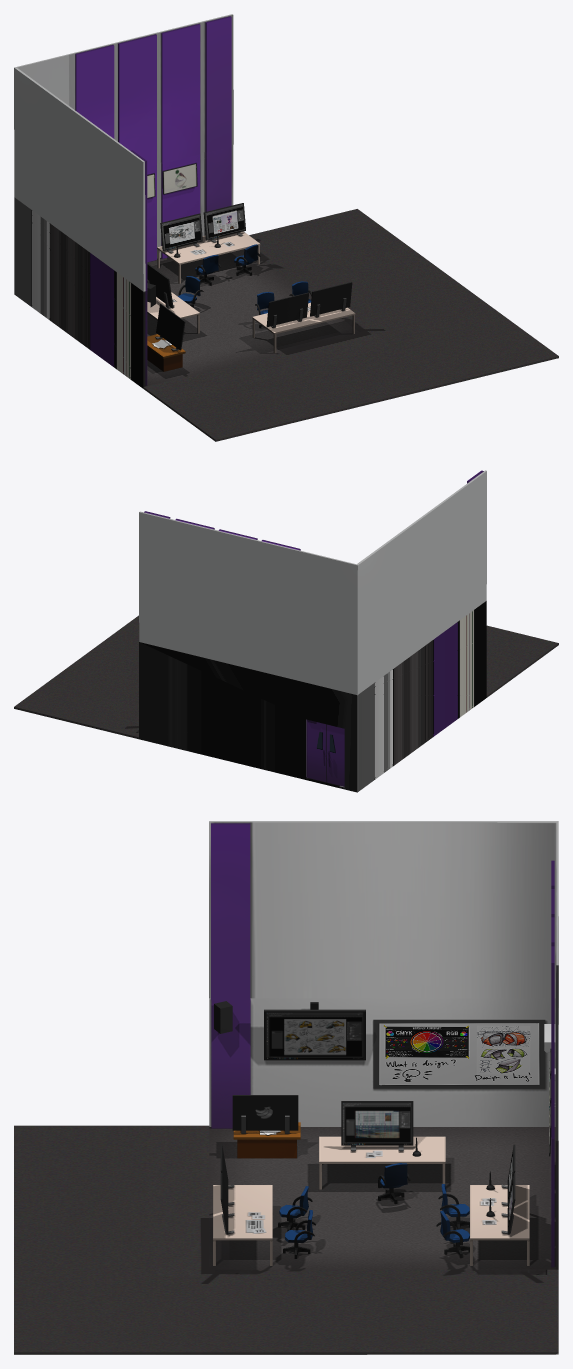
File: Tx_Interior_Education_Design.fbx
The picture shows the model from 3 angles, top to bottom: view 1: azimuth 30°, elevation 25°; view 2: azimuth 150°, elevation 25°; view 3: azimuth 270°, elevation 25°; orthographic projection. The views are drawn at different scales.
Visible parts, largest first — view 1: extended_wall, polySurface806; view 2: extended_wall, polySurface806; view 3: extended_wall, polySurface806.
Part boxes in pixels (left/top/right/bottom): extended_wall: left=14, top=14, right=558, bottom=441; polySurface806: left=14, top=145, right=361, bottom=388; extended_wall: left=14, top=470, right=558, bottom=739; polySurface806: left=139, top=512, right=486, bottom=792; extended_wall: left=14, top=821, right=558, bottom=1354; polySurface806: left=209, top=998, right=558, bottom=1269.
Bounding box in the file's own units: 82.43 × 52.05 × 83.74.
2 materials, 2 textured.
